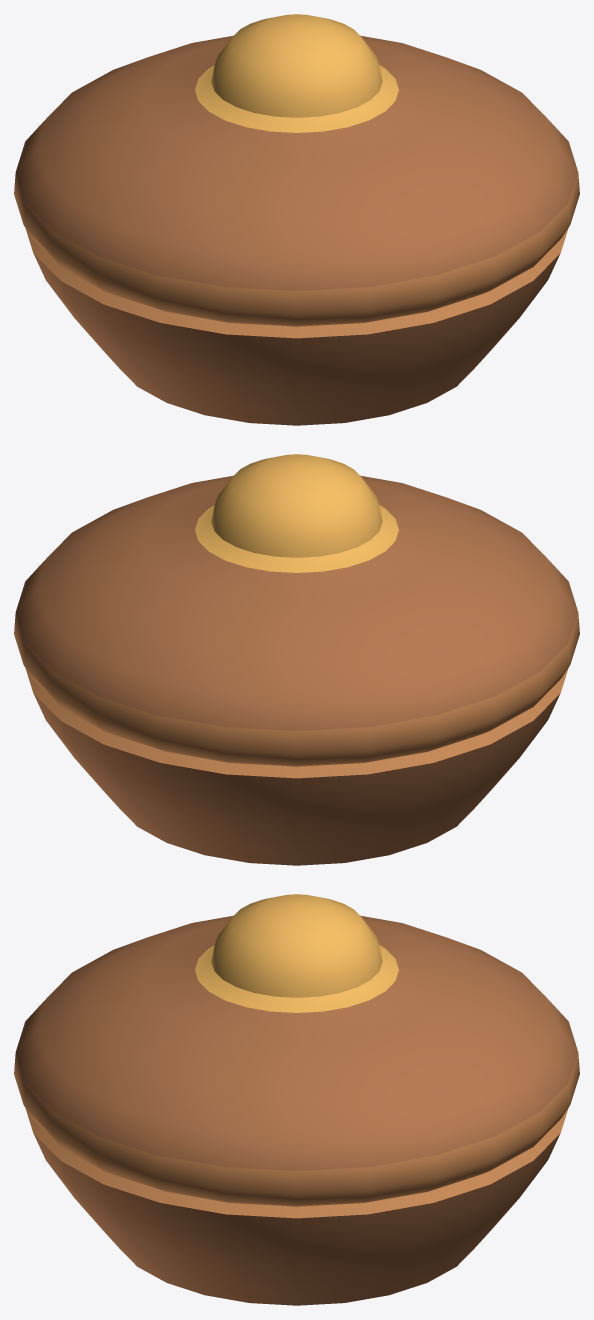
Rendered from BonangBarung.fbx.
The picture shows the model from 3 angles, top to bottom: view 1: azimuth 30°, elevation 25°; view 2: azimuth 150°, elevation 25°; view 3: azimuth 270°, elevation 25°; orthographic projection.
Parts seen in each view (by area): view 1: BonangBarung_Mesh; view 2: BonangBarung_Mesh; view 3: BonangBarung_Mesh.
Boxes of the visible parts, x1,y1,x2,y2 form: BonangBarung_Mesh: (14, 14, 579, 425); BonangBarung_Mesh: (14, 454, 579, 865); BonangBarung_Mesh: (14, 894, 579, 1305).
Size of the model in its own units: 0.232 by 0.1464 by 0.232.
